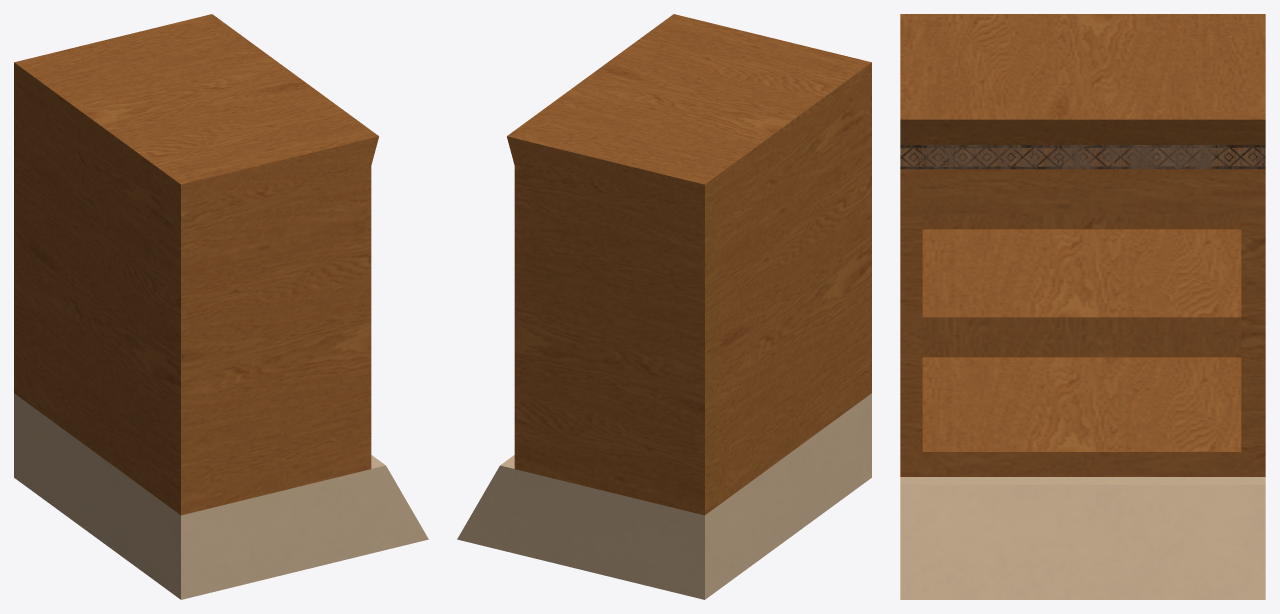
The model's file is TopCabinet_Smoke.fbx.
3 renders of one model, left to right at view 1: azimuth 30°, elevation 25°; view 2: azimuth 150°, elevation 25°; view 3: azimuth 270°, elevation 25°, orthographic. The views are drawn at different scales.
Parts seen in each view (by area): view 1: pCube18, Top_middle1, Smoke; view 2: pCube18, Top_middle1, Smoke; view 3: pCube18, Top_middle1, Smoke.
Boxes of the visible parts, x1,y1,x2,y2 form: pCube18: (14, 129, 371, 515); Top_middle1: (14, 14, 378, 251); Smoke: (14, 393, 428, 599); pCube18: (514, 129, 871, 515); Top_middle1: (507, 14, 871, 251); Smoke: (457, 393, 871, 599); pCube18: (900, 189, 1265, 476); Top_middle1: (900, 14, 1265, 188); Smoke: (900, 477, 1265, 599).
Size of the model in its own units: 0.7125 by 1.14 by 0.832.
